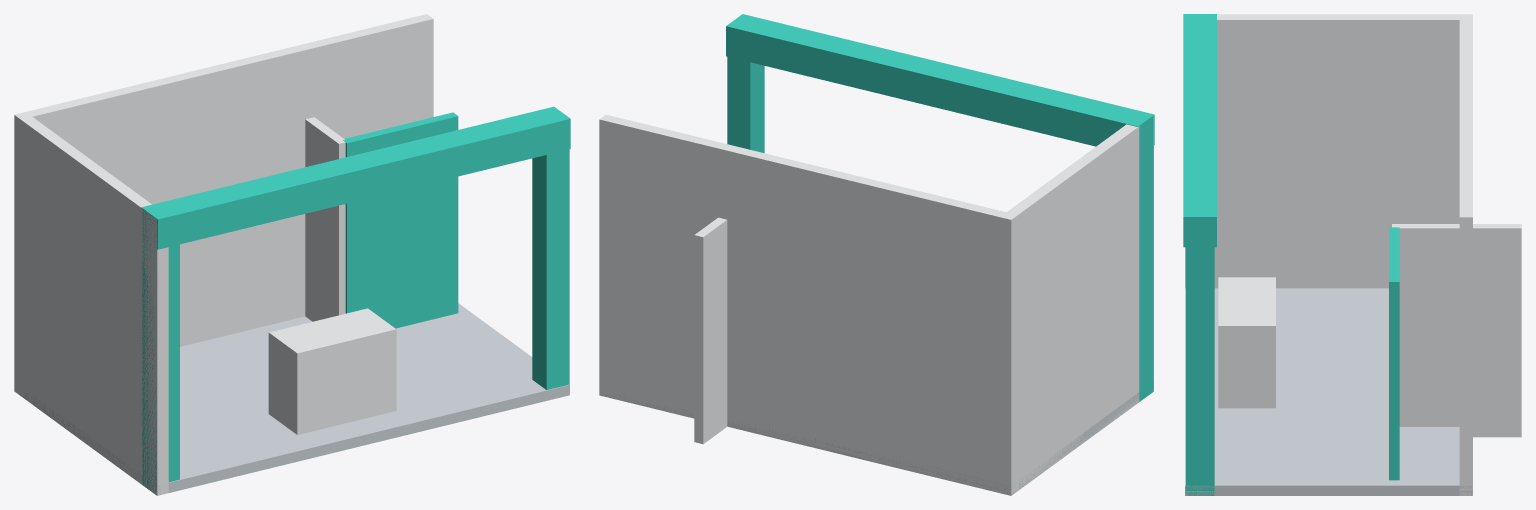
The picture shows the model from 3 angles, left to right: view 1: azimuth 30°, elevation 25°; view 2: azimuth 150°, elevation 25°; view 3: azimuth 270°, elevation 25°; orthographic projection.
Parts seen in each view (by area): view 1: Exhibition Booth Concept; view 2: Exhibition Booth Concept; view 3: Exhibition Booth Concept.
Part boxes in pixels (<box>): Exhibition Booth Concept: <box>14,14,570,495</box>; Exhibition Booth Concept: <box>599,14,1154,495</box>; Exhibition Booth Concept: <box>1183,14,1521,495</box>.
Size of the model in its own units: 5 by 3.2 by 3.52.
